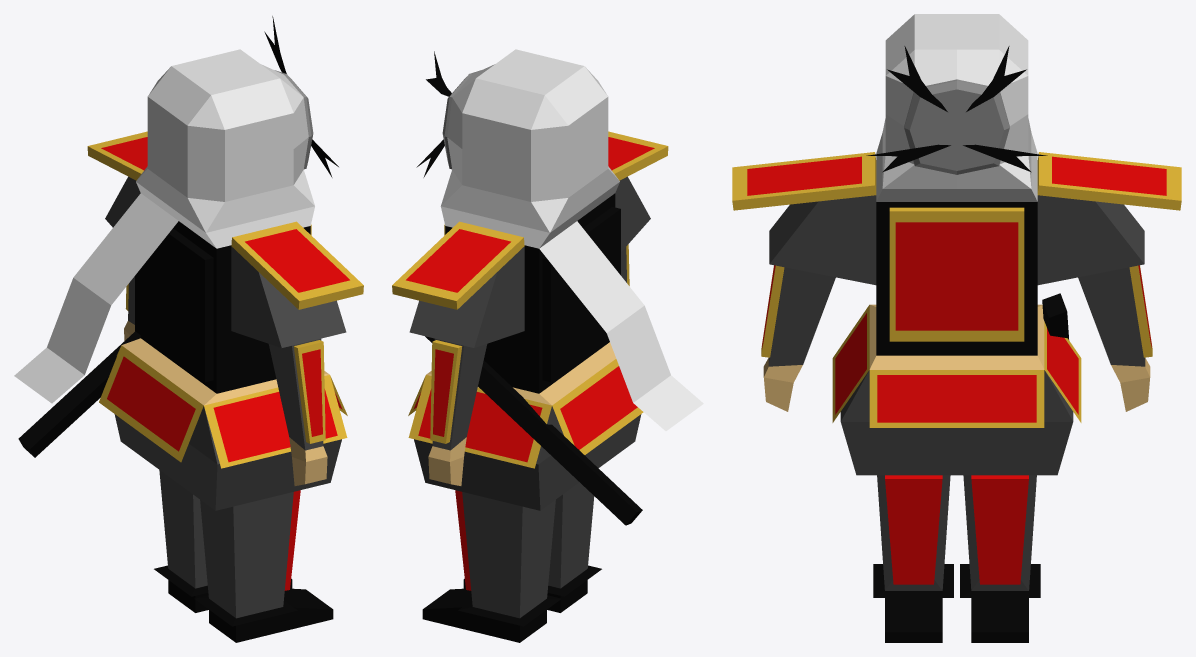
File: M_Enemy_Blockout.fbx
3 views of the same model, side by side, from view 1: azimuth 30°, elevation 25°; view 2: azimuth 150°, elevation 25°; view 3: azimuth 270°, elevation 25° (orthographic). The views are drawn at different scales.
Visible parts, largest first — view 1: Cube; view 2: Cube; view 3: Cube.
Boxes of the visible parts, <box> form: Cube: <box>14,16,363,642</box>; Cube: <box>392,49,703,642</box>; Cube: <box>732,14,1181,642</box>.
Bounding box in the file's own units: 98.8 × 208 × 142.
